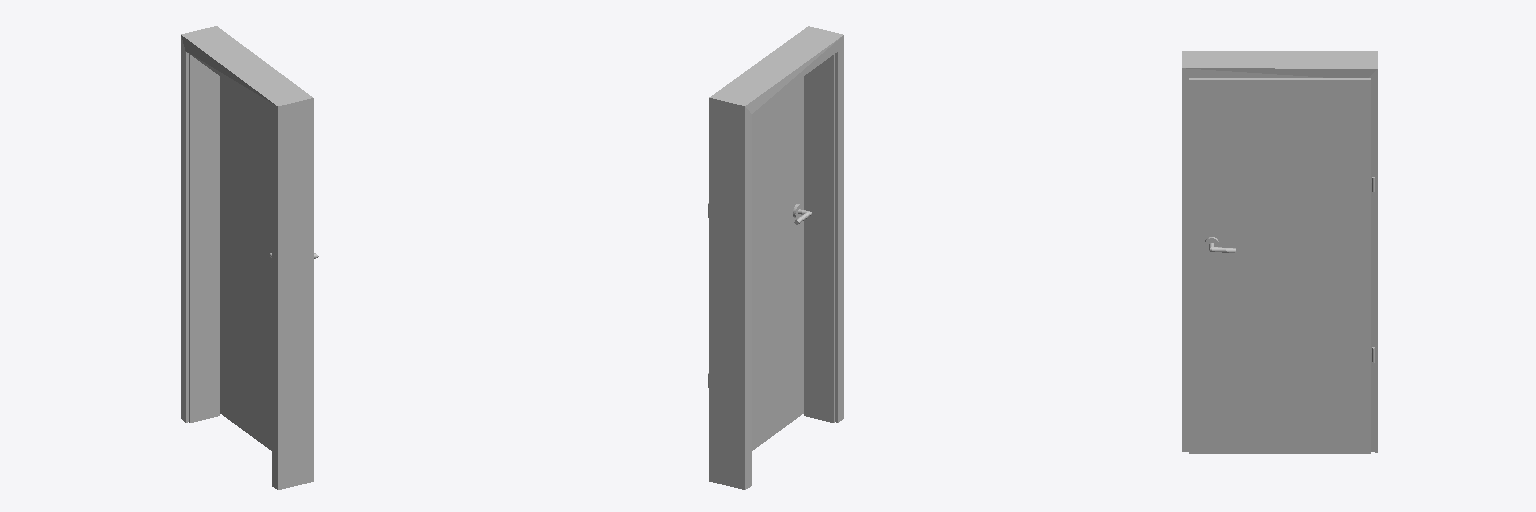
File: door105.obj
3 views of the same model, side by side, from view 1: azimuth 30°, elevation 25°; view 2: azimuth 150°, elevation 25°; view 3: azimuth 270°, elevation 25° (orthographic).
Parts seen in each view (by area): view 1: Cylinder.005, Cylinder.001; view 2: Cylinder.005, Cylinder.001; view 3: Cylinder.001, Cylinder.005.
Boxes of the visible parts, <box> form: Cylinder.005: <box>181,26,313,489</box>; Cylinder.001: <box>220,77,271,450</box>; Cylinder.005: <box>708,26,843,489</box>; Cylinder.001: <box>708,77,803,450</box>; Cylinder.001: <box>1189,78,1374,453</box>; Cylinder.005: <box>1182,51,1377,452</box>.
Bounding box in the file's own units: 0.3039 × 2.05 × 0.95.